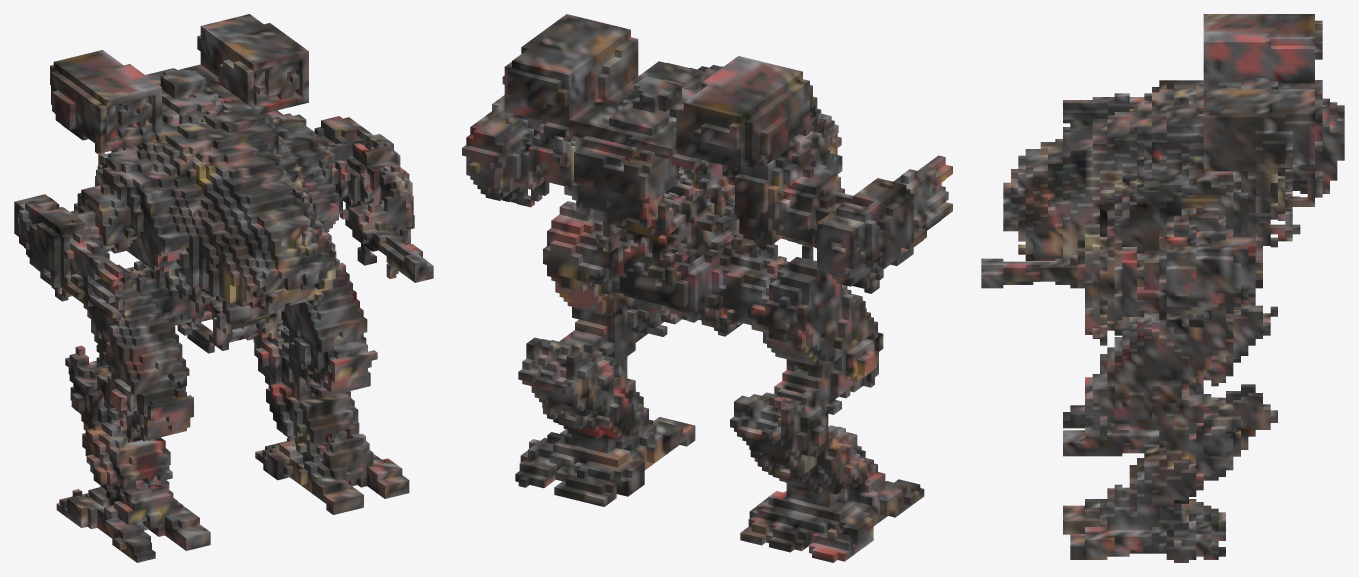
File: voxel_ironclad_64x.glb
3 views of the same model, side by side, from view 1: azimuth 30°, elevation 25°; view 2: azimuth 150°, elevation 25°; view 3: azimuth 270°, elevation 25° (orthographic). The views are drawn at different scales.
Parts seen in each view (by area): view 1: TargetModel; view 2: TargetModel; view 3: TargetModel.
Boxes of the visible parts, x1=… form: TargetModel: x1=14, y1=14, x2=433, y2=562; TargetModel: x1=462, y1=14, x2=952, y2=562; TargetModel: x1=981, y1=14, x2=1344, y2=562.
Bounding box in the file's own units: 0.8996 × 0.9943 × 0.7734.
